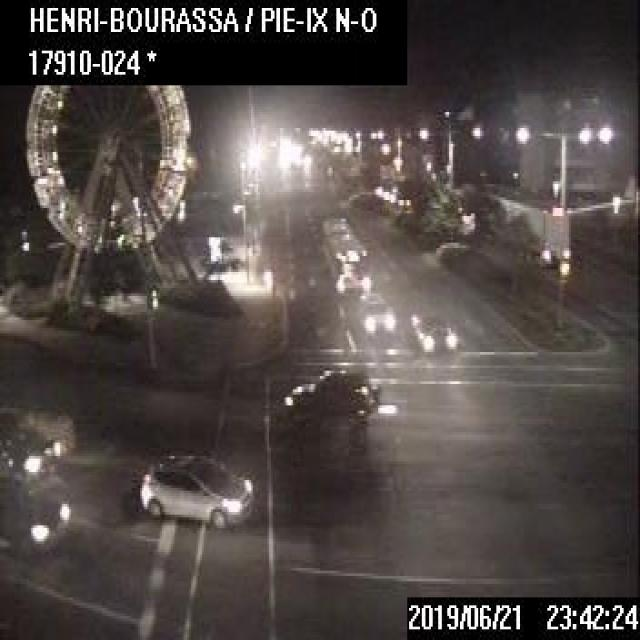bus: (319, 214, 370, 295)
vehicle: (138, 453, 253, 528), (280, 362, 378, 427), (0, 474, 71, 554), (0, 411, 62, 477), (409, 314, 458, 354), (358, 296, 395, 333)
